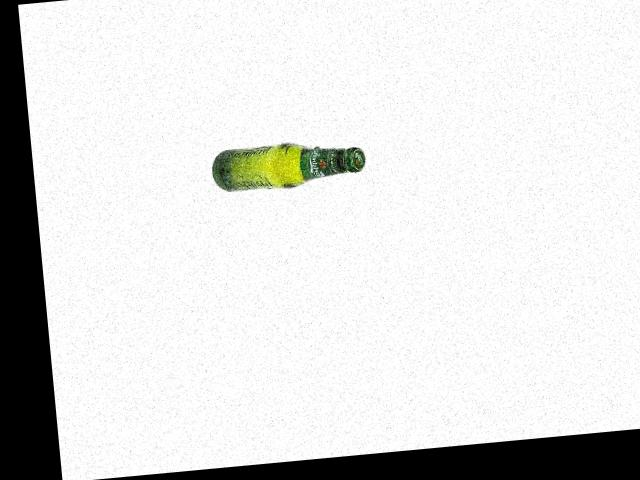beer: (209, 135, 367, 194)
